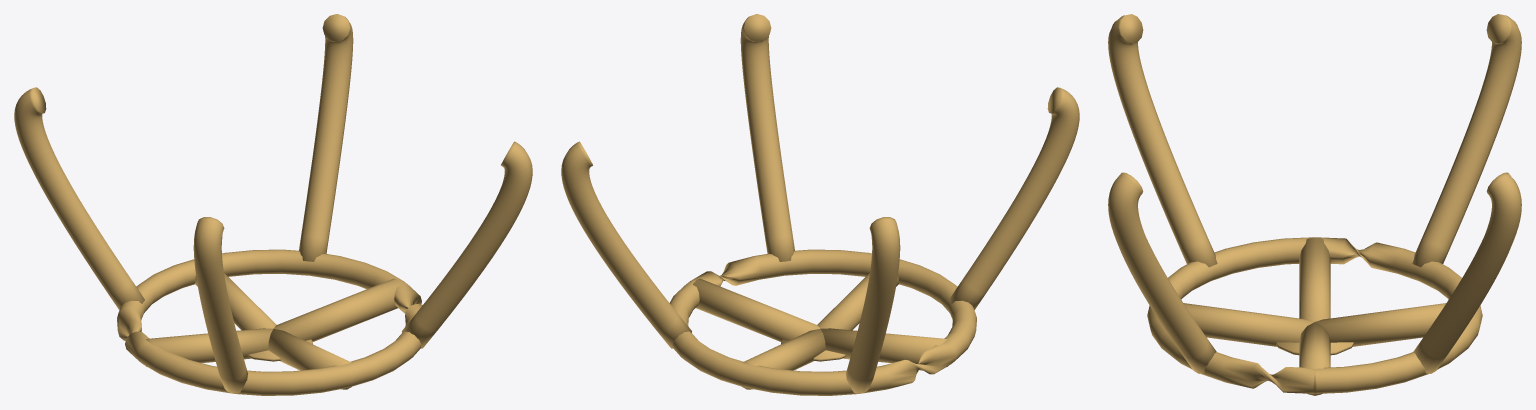
File: demo-round-2-4-prong.glb
3 renders of one model, left to right at view 1: azimuth 30°, elevation 25°; view 2: azimuth 150°, elevation 25°; view 3: azimuth 270°, elevation 25°, orthographic. The views are drawn at different scales.
Visible parts, largest first — view 1: Metal.038, Metal.039, Metal.040, Metal.042, Metal.041, Metal.034, Metal.035, Metal.037, Metal.036; view 2: Metal.038, Metal.042, Metal.041, Metal.039, Metal.040, Metal.034, Metal.035, Metal.036, Metal.037; view 3: Metal.038, Metal.040, Metal.041, Metal.042, Metal.039, Metal.036, Metal.037, Metal.035, Metal.034, Metal.033.
Part boxes in pixels (bbox=[...]): Metal.038: bbox=[117, 249, 422, 395]; Metal.039: bbox=[299, 14, 353, 261]; Metal.040: bbox=[14, 87, 144, 309]; Metal.042: bbox=[402, 141, 532, 348]; Metal.041: bbox=[193, 217, 247, 393]; Metal.034: bbox=[274, 278, 400, 341]; Metal.035: bbox=[146, 328, 272, 366]; Metal.037: bbox=[268, 328, 351, 389]; Metal.036: bbox=[195, 273, 276, 330]; Metal.038: bbox=[670, 249, 976, 395]; Metal.042: bbox=[740, 14, 794, 261]; Metal.041: bbox=[949, 87, 1079, 309]; Metal.039: bbox=[561, 141, 691, 348]; Metal.040: bbox=[846, 217, 900, 393]; Metal.034: bbox=[693, 278, 819, 341]; Metal.035: bbox=[821, 328, 947, 366]; Metal.036: bbox=[742, 328, 825, 389]; Metal.037: bbox=[817, 273, 898, 330]; Metal.038: bbox=[1147, 237, 1482, 393]; Metal.040: bbox=[1412, 14, 1521, 267]; Metal.041: bbox=[1108, 14, 1217, 267]; Metal.042: bbox=[1108, 172, 1216, 373]; Metal.039: bbox=[1413, 172, 1521, 373]; Metal.036: bbox=[1315, 303, 1446, 346]; Metal.037: bbox=[1183, 303, 1314, 346]; Metal.035: bbox=[1299, 237, 1330, 321]; Metal.034: bbox=[1299, 322, 1330, 395]; Metal.033: bbox=[1276, 342, 1353, 355].
Size of the model in its own units: 6.36 by 4.34 by 6.36.
